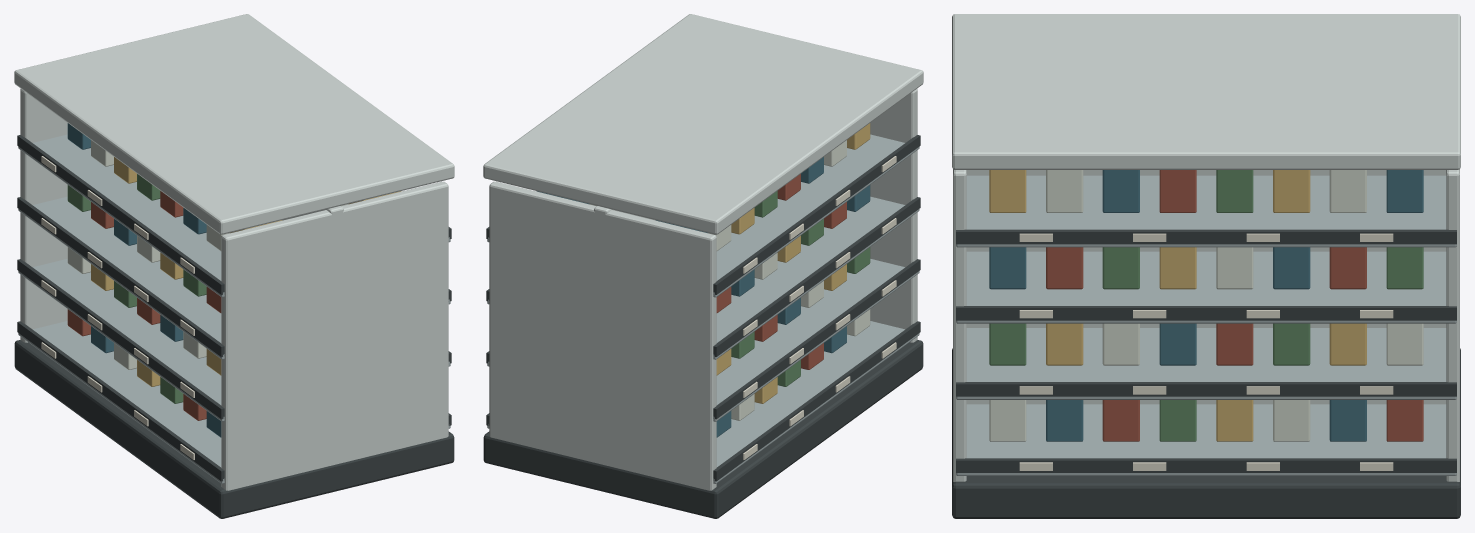
The model's file is breakfast.glb.
3 renders of one model, left to right at view 1: azimuth 30°, elevation 25°; view 2: azimuth 150°, elevation 25°; view 3: azimuth 270°, elevation 25°, orthographic. The views are drawn at different scales.
Parts seen in each view (by area): view 1: breakfast_fixture_Refrigerator enamel, breakfast_fixture_Powder-coated graphite, breakfast_fixture_Brushed stainless, breakfast_detail_Dairy cartons, breakfast_detail_redpack, breakfast_detail_Pack blue, breakfast_micro_Ivory shelf label, breakfast_detail_cheese, breakfast_detail_greenpack; view 2: breakfast_fixture_Refrigerator enamel, breakfast_fixture_Powder-coated graphite, breakfast_fixture_Brushed stainless, breakfast_detail_Pack blue, breakfast_detail_Dairy cartons, breakfast_detail_cheese, breakfast_micro_Ivory shelf label, breakfast_detail_greenpack, breakfast_detail_redpack; view 3: breakfast_fixture_Refrigerator enamel, breakfast_fixture_Brushed stainless, breakfast_fixture_Powder-coated graphite, breakfast_detail_Dairy cartons, breakfast_detail_Pack blue, breakfast_detail_cheese, breakfast_detail_greenpack, breakfast_detail_redpack, breakfast_micro_Ivory shelf label.
Boxes of the visible parts, bbox=[...] form: breakfast_fixture_Refrigerator enamel: bbox=[14, 14, 454, 490]; breakfast_fixture_Powder-coated graphite: bbox=[14, 135, 454, 518]; breakfast_fixture_Brushed stainless: bbox=[18, 134, 450, 483]; breakfast_detail_Dairy cartons: bbox=[67, 140, 348, 369]; breakfast_detail_redpack: bbox=[67, 191, 221, 420]; breakfast_detail_Pack blue: bbox=[67, 123, 221, 437]; breakfast_micro_Ivory shelf label: bbox=[41, 156, 194, 459]; breakfast_detail_cheese: bbox=[91, 157, 401, 386]; breakfast_detail_greenpack: bbox=[67, 174, 206, 403]; breakfast_fixture_Refrigerator enamel: bbox=[483, 14, 923, 490]; breakfast_fixture_Powder-coated graphite: bbox=[483, 135, 923, 518]; breakfast_fixture_Brushed stainless: bbox=[487, 134, 919, 483]; breakfast_detail_Pack blue: bbox=[536, 157, 870, 437]; breakfast_detail_Dairy cartons: bbox=[589, 140, 870, 420]; breakfast_detail_cheese: bbox=[716, 123, 870, 403]; breakfast_micro_Ivory shelf label: bbox=[743, 156, 896, 459]; breakfast_detail_greenpack: bbox=[731, 191, 870, 386]; breakfast_detail_redpack: bbox=[716, 174, 846, 369]; breakfast_fixture_Refrigerator enamel: bbox=[952, 14, 1460, 481]; breakfast_fixture_Brushed stainless: bbox=[956, 175, 1456, 475]; breakfast_fixture_Powder-coated graphite: bbox=[952, 229, 1460, 518]; breakfast_detail_Dairy cartons: bbox=[989, 170, 1423, 441]; breakfast_detail_Pack blue: bbox=[989, 170, 1423, 441]; breakfast_detail_cheese: bbox=[989, 170, 1366, 441]; breakfast_detail_greenpack: bbox=[989, 170, 1423, 441]; breakfast_detail_redpack: bbox=[1046, 170, 1423, 441]; breakfast_micro_Ivory shelf label: bbox=[1019, 233, 1393, 470].
Bounding box in the file's own units: 1.7 × 2.07 × 2.6.
